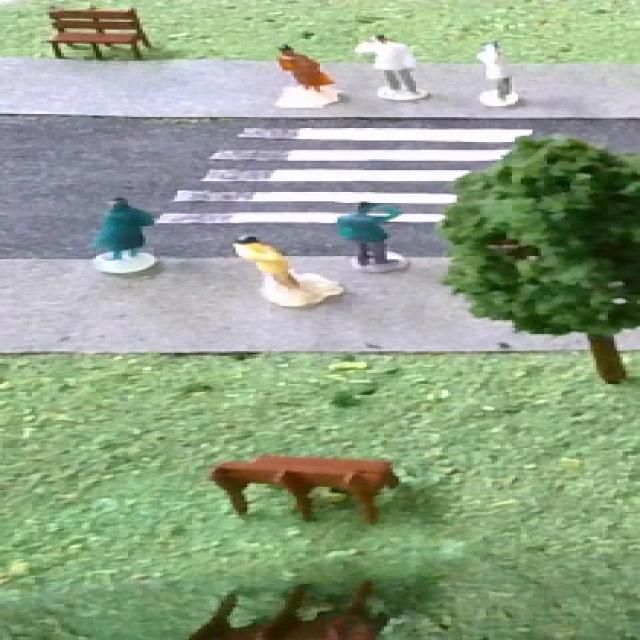person: (225, 228, 319, 304), (81, 192, 162, 274), (349, 27, 430, 103), (330, 197, 410, 271), (265, 32, 347, 100), (464, 37, 530, 110)
